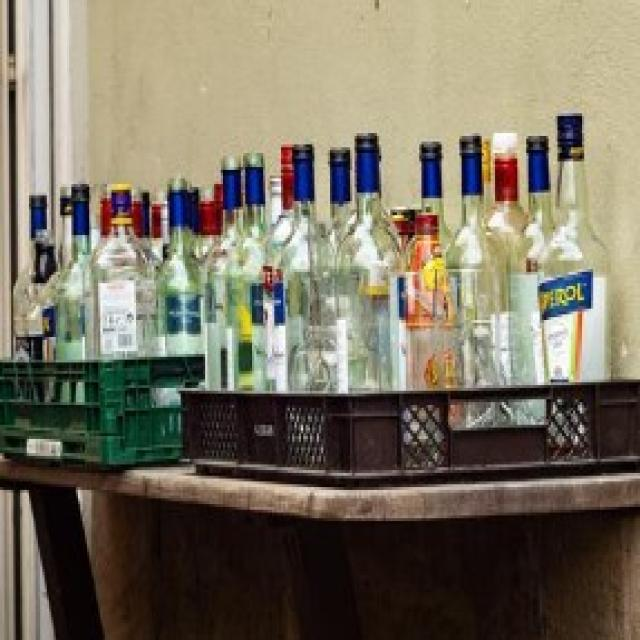electronic: (17, 118, 614, 390)
